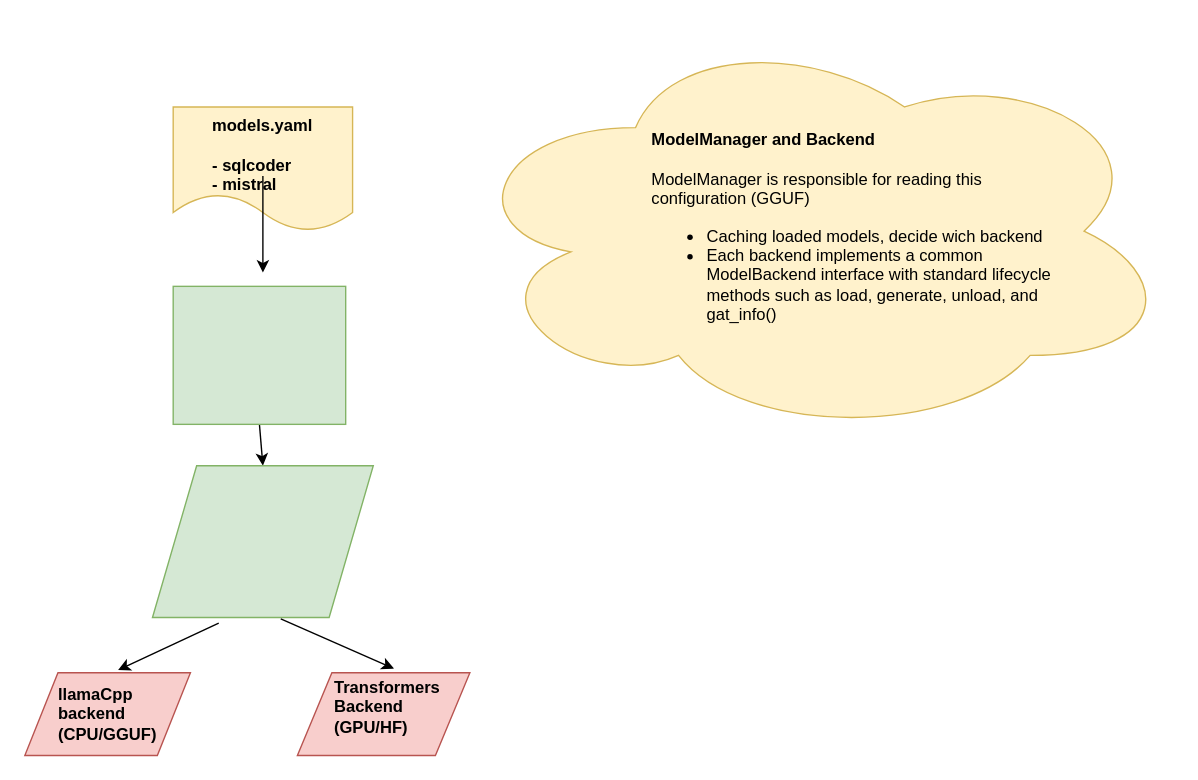
This 1198x780 diagram has some shape labels left out. The shapes that lost their labels are listed below. From the top down, each one's box as (x1, y1, x2, y2) in pixels, then its label:
(172, 285, 346, 424): ModelManager - lee config - cachea modelos - decide backend
(151, 464, 373, 618): ModelBackend() load() generate() unload() get_info()
